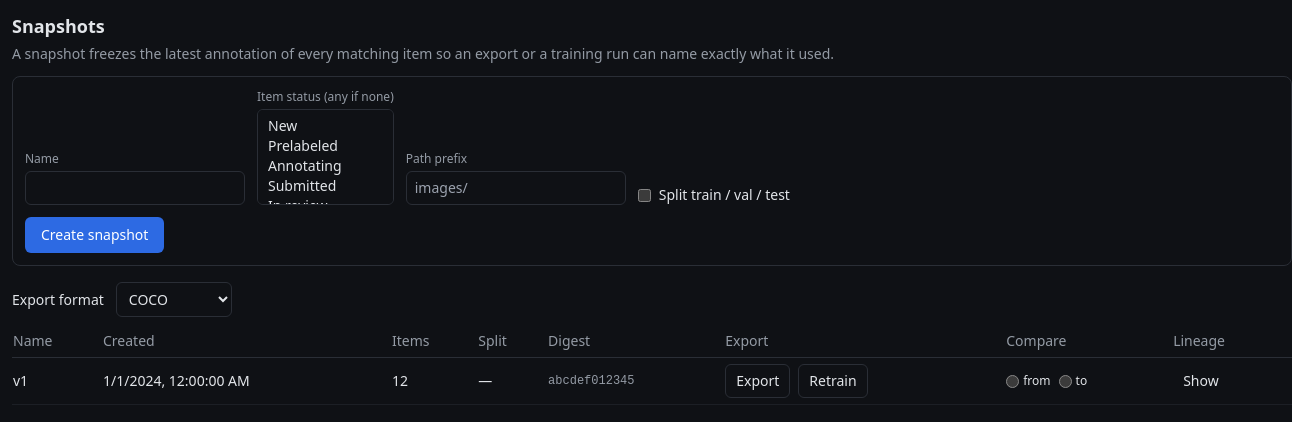
Scenario: SnapshotsPanel › requests a retrain for a snapshot and reports the delivery count
Click the button "Retrain" at (833, 381), box [798,364,868,398]
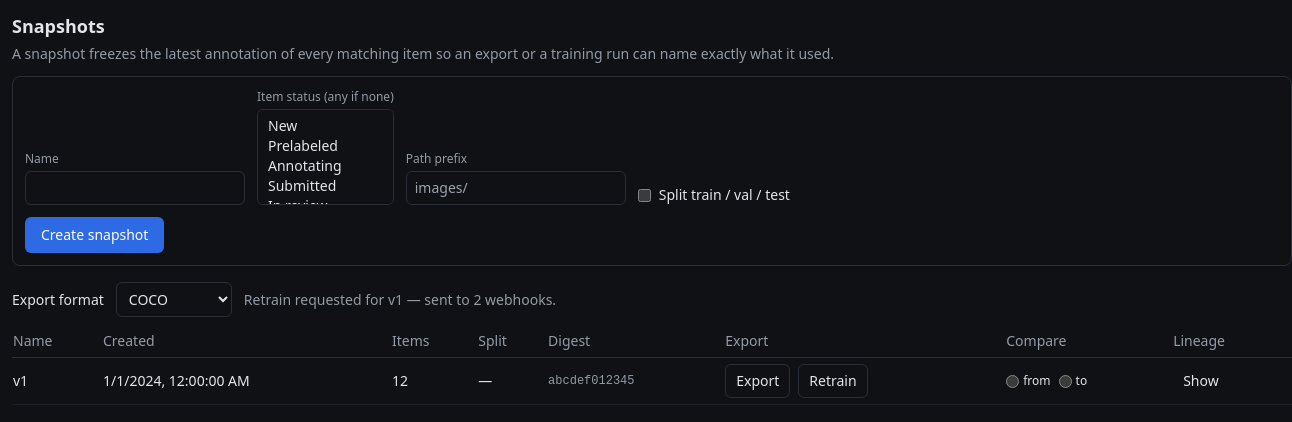
Now the message reads "Retrain requested for v1 — sent to 2 webhooks.", box [244,290,556,308]
